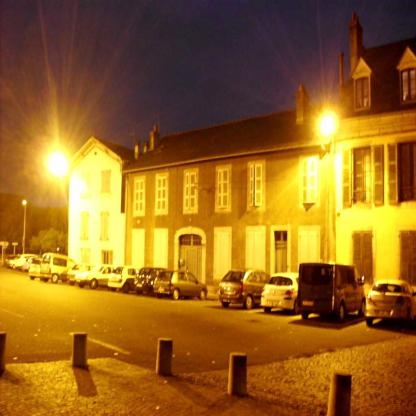Car: (365, 276, 415, 330), (220, 268, 268, 308), (261, 270, 301, 314), (153, 270, 209, 301), (37, 248, 75, 287), (72, 266, 120, 291), (136, 265, 171, 296), (111, 261, 141, 295), (29, 254, 43, 282)
